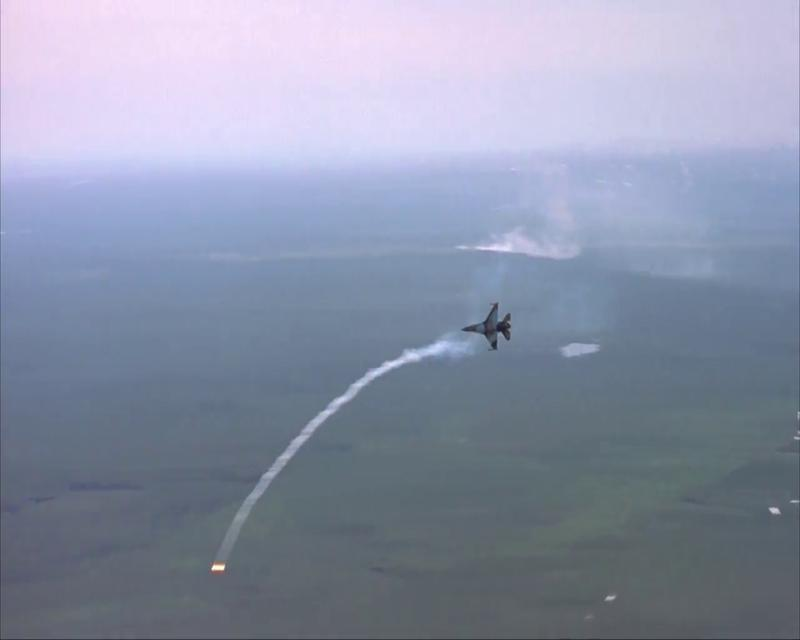UAV: (460, 300, 512, 351)
